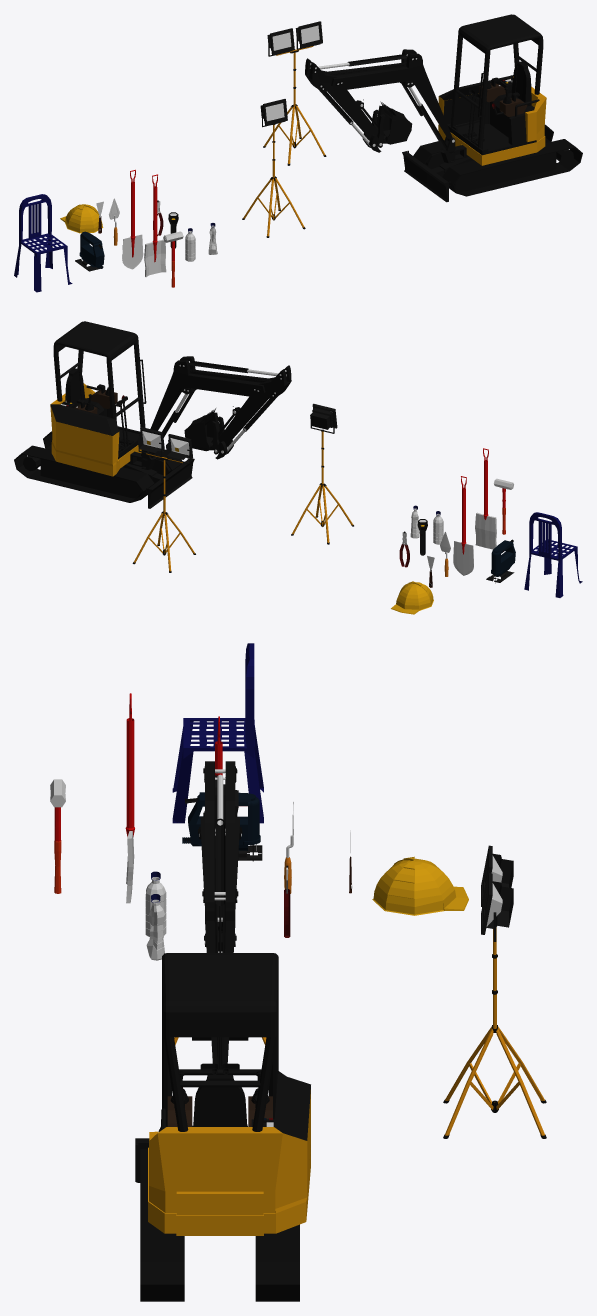
Rendered from Macro.obj.
The picture shows the model from 3 angles, top to bottom: view 1: azimuth 30°, elevation 25°; view 2: azimuth 150°, elevation 25°; view 3: azimuth 270°, elevation 25°; orthographic projection. The views are drawn at different scales.
Parts seen in each view (by area): view 1: Cube.005, Cube.001, Cube.002, Circle.008, Circle.005, Sphere, Cube, Circle.004; view 2: Cube.005, Cube.002, Cube.001, Circle.008, Sphere, Circle.005, Cube, Circle.004; view 3: Cube.005, Cube.002, Cube.001, Sphere, Cube, Circle.005, Circle.012, Circle.009.
Part boxes in pixels (x1,y1,x2,y2): Cube.005: (305, 14, 582, 202); Cube.001: (14, 194, 72, 292); Cube.002: (263, 21, 326, 165); Circle.008: (242, 99, 305, 237); Circle.005: (144, 174, 166, 277); Sphere: (60, 204, 103, 233); Cube: (75, 231, 104, 271); Circle.004: (122, 234, 143, 269); Cube.005: (14, 321, 291, 508); Cube.002: (132, 427, 195, 572); Cube.001: (524, 512, 582, 597); Circle.008: (291, 403, 353, 544); Sphere: (391, 581, 433, 614); Circle.005: (475, 448, 496, 549); Cube: (486, 539, 515, 583); Circle.004: (453, 541, 473, 575); Cube.005: (135, 761, 310, 1301); Cube.002: (443, 845, 546, 1138); Cube.001: (172, 643, 263, 823); Sphere: (372, 856, 468, 915); Cube: (182, 792, 262, 861); Circle.005: (125, 693, 134, 903); Circle.012: (50, 779, 65, 893); Circle.009: (146, 894, 164, 960).
Size of the model in its own units: 29.26 by 8.57 by 11.72.
